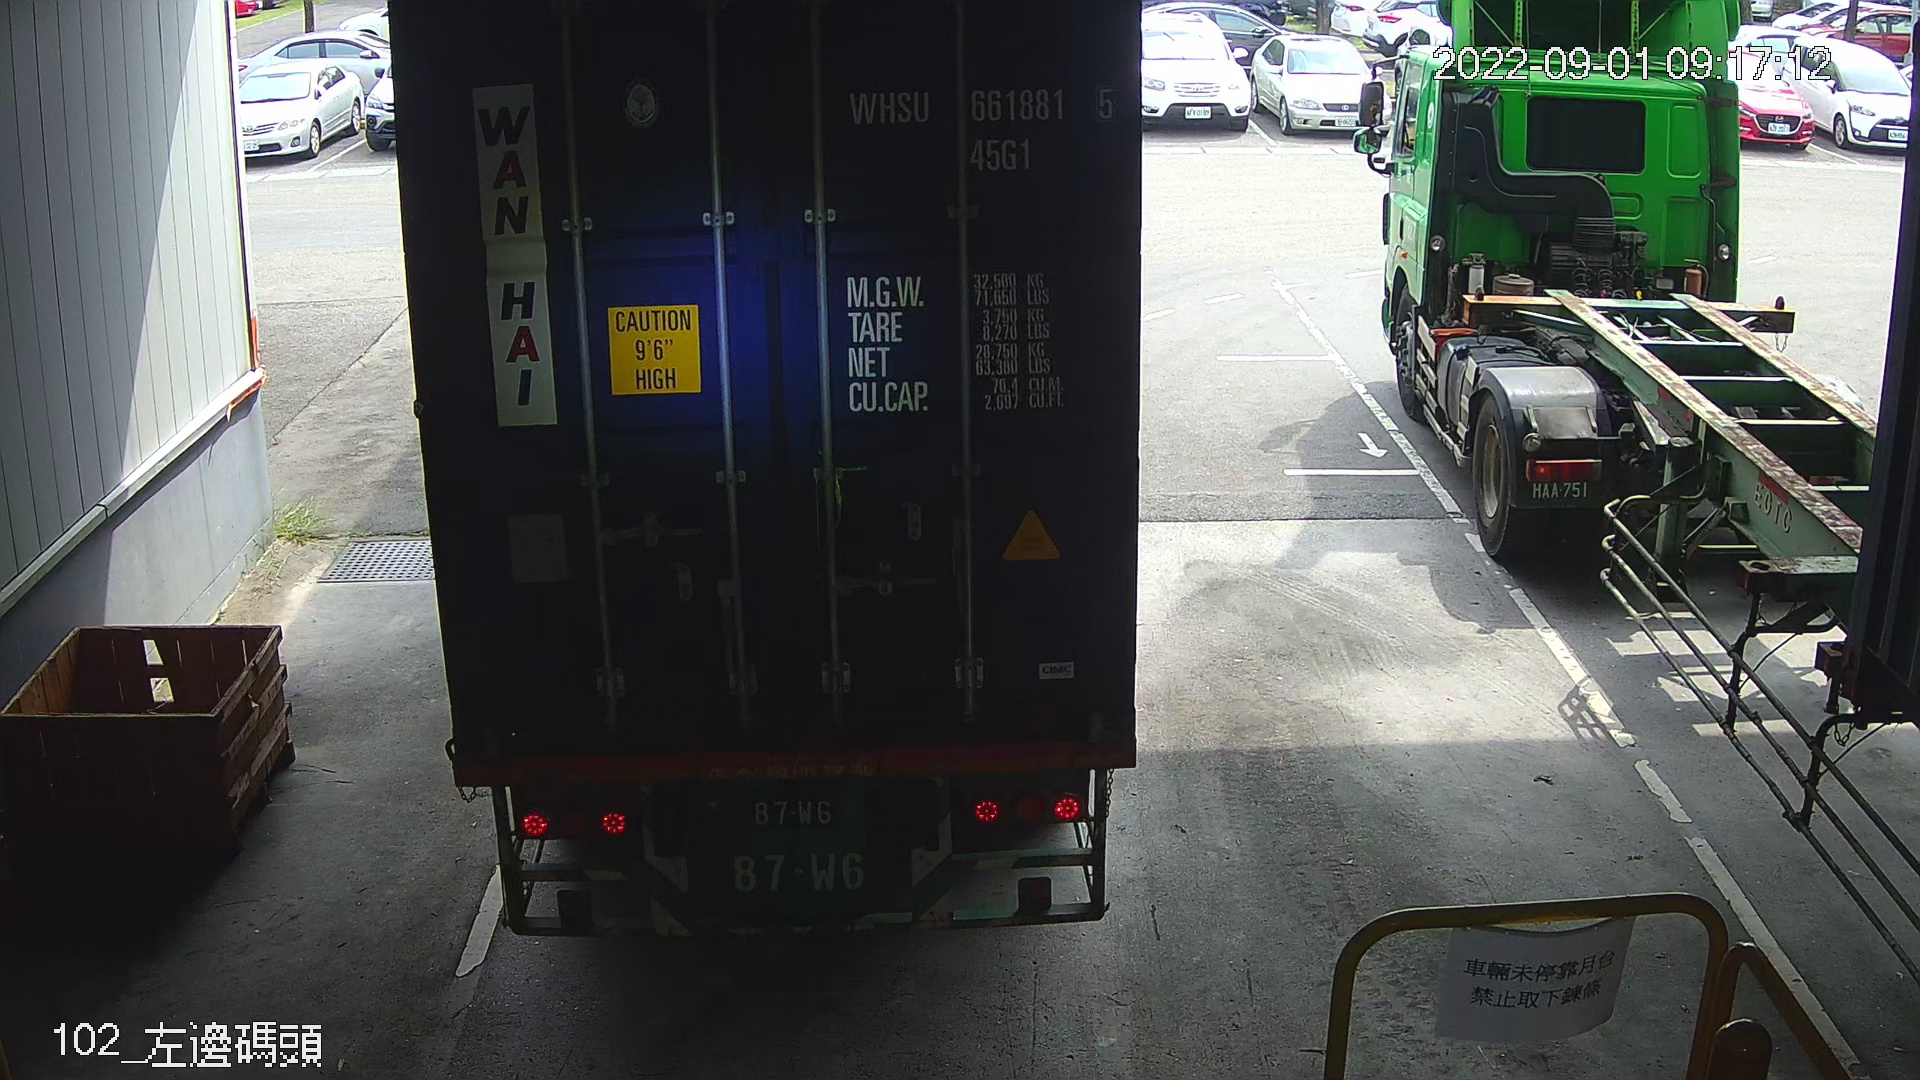container: (833, 76, 1127, 179)
